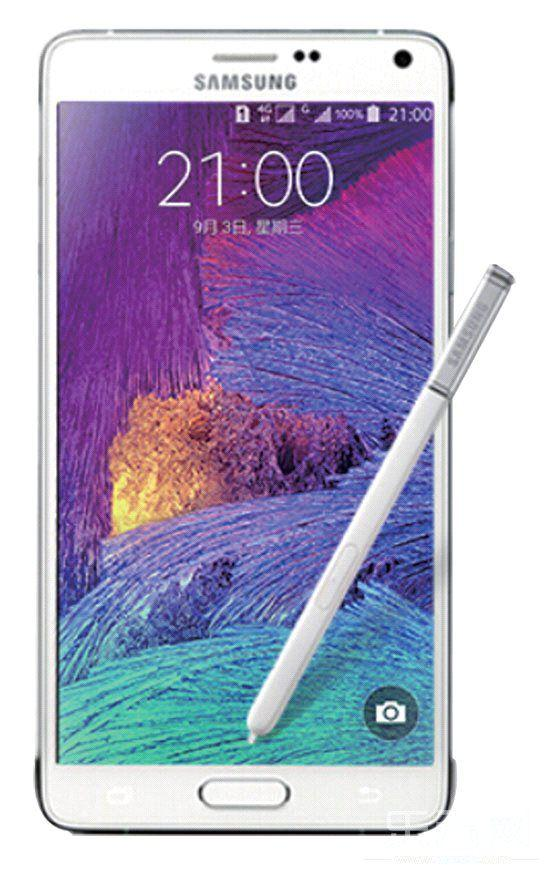phone: (36, 34, 458, 840)
